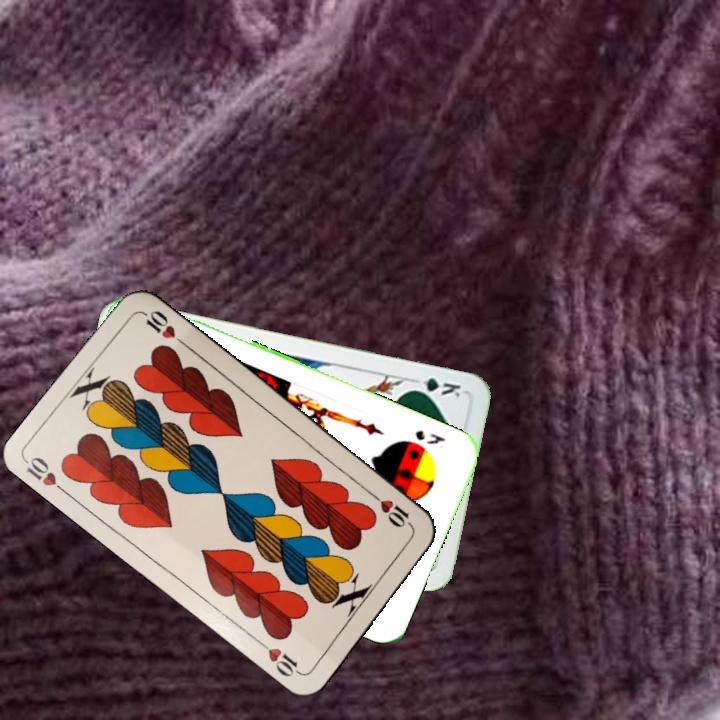GK: (406, 373, 464, 400)
H10: (22, 452, 72, 499), (366, 489, 416, 532)
SK: (411, 426, 448, 447)
